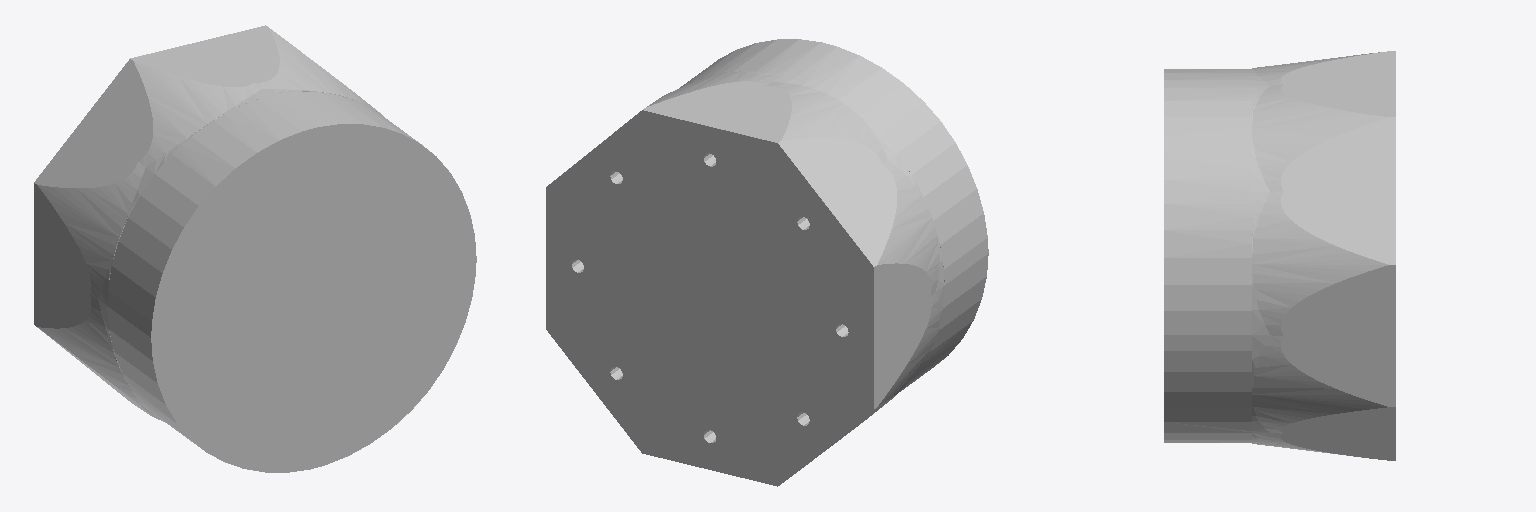
Rendered from arm_base_link.obj.
3 renders of one model, left to right at view 1: azimuth 30°, elevation 25°; view 2: azimuth 150°, elevation 25°; view 3: azimuth 270°, elevation 25°, orthographic.
Size of the model in its own units: 0.103 by 0.103 by 0.063.